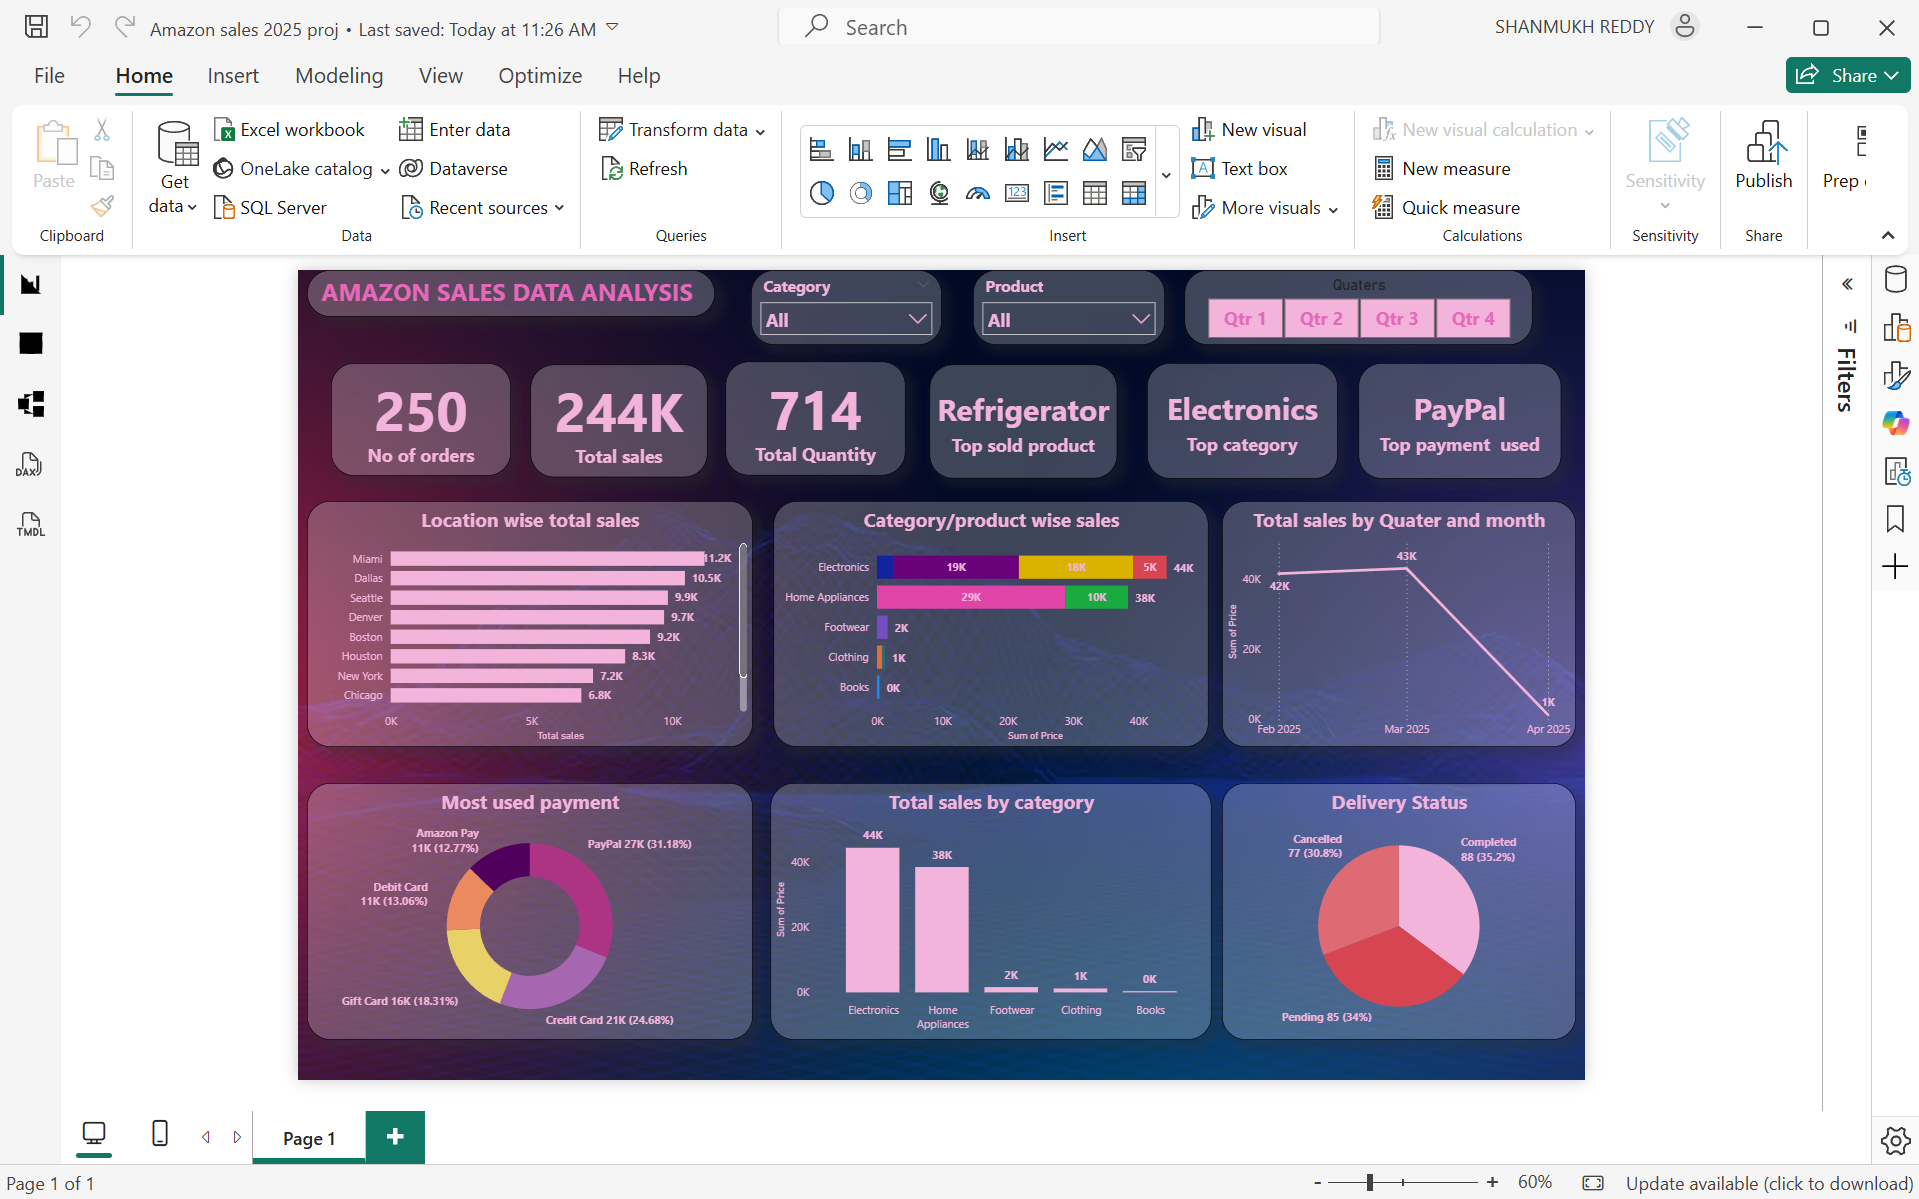

This screenshot's page, from the dashboard's own definition file:
{"tool":"powerbi","page":{"name":"Page 1","canvas":[1430,900],"ordinal":0},"visuals":[{"type":"textbox","box":[10.3,0,453.1,51.7],"z":0},{"type":"card","fields":{"Values":["CountNonNull(amazon_sales_data 2025.Order ID)"]},"box":[36.7,103.3,200,125],"z":1000},{"type":"card","fields":{"Values":["Sum(amazon_sales_data 2025.Total Sales)"]},"box":[258.3,105,196.7,125],"z":2000},{"type":"card","fields":{"Values":["Min(amazon_sales_data 2025.Product)"]},"box":[701.7,105,208.3,126.7],"z":3000},{"type":"card","fields":{"Values":["Sum(amazon_sales_data 2025.Quantity)"]},"box":[475,101.7,200,126.7],"z":4000},{"type":"slicer","title":"Quaters","fields":{"Values":["amazon_sales_data 2025.Date.Variation.Date Hierarchy.Quarter"]},"box":[985,0,386.7,83.3],"z":5000},{"type":"card","fields":{"Values":["Min(amazon_sales_data 2025.Category)"]},"box":[943.3,103.3,211.7,128.3],"z":6000},{"type":"card","fields":{"Values":["Min(amazon_sales_data 2025.Payment Method)"]},"box":[1178.3,103.3,225,128.3],"z":7000},{"type":"barChart","title":"Location wise total sales","fields":{"Category":["amazon_sales_data 2025.Customer Location"],"Y":["Sum(amazon_sales_data 2025.Price)"]},"box":[10,256.7,495,273.3],"z":8000},{"type":"donutChart","title":"Most used payment","fields":{"Category":["amazon_sales_data 2025.Payment Method"],"Y":["Sum(amazon_sales_data 2025.Price)"]},"box":[10,570,495,285],"z":9000},{"type":"barChart","title":" Category/product wise sales","fields":{"Category":["amazon_sales_data 2025.Category"],"Series":["amazon_sales_data 2025.Product"],"Y":["Sum(amazon_sales_data 2025.Price)"]},"box":[528.3,256.7,483.3,273.3],"z":10000},{"type":"clusteredColumnChart","title":"Total sales by category","fields":{"Category":["amazon_sales_data 2025.Category"],"Y":["Sum(amazon_sales_data 2025.Price)"]},"box":[525,570,490,285],"z":11000},{"type":"lineChart","title":"Total sales by Quater and month","fields":{"Category":["amazon_sales_data 2025.Date.Variation.Date Hierarchy.Year","amazon_sales_data 2025.Date.Variation.Date Hierarchy.Quarter","amazon_sales_data 2025.Date.Variation.Date Hierarchy.Month","amazon_sales_data 2025.Date.Variation.Date Hierarchy.Day"],"Y":["Sum(amazon_sales_data 2025.Price)"]},"box":[1026.7,256.7,393.3,273.3],"z":12000},{"type":"slicer","fields":{"Values":["amazon_sales_data 2025.Category"]},"box":[503.3,0,211.7,83.3],"z":13000},{"type":"slicer","fields":{"Values":["amazon_sales_data 2025.Product"]},"box":[750,0,213.3,83.3],"z":14000},{"type":"pieChart","title":"Delivery Status ","fields":{"Category":["amazon_sales_data 2025.Status"],"Y":["CountNonNull(amazon_sales_data 2025.Status)"]},"box":[1027,570,393,285],"z":15000}]}

Visuals, with their boxes on the page's 1430x900 design canvas (x1, y1, x2, y2). These are canvas units, not pixel positions in the 1919x1199 screenshot, which may show the page scaled, cropped or inside an application window:
textbox: x1=10, y1=0, x2=463, y2=52
card - CountNonNull(amazon_sales_data 2025.Order ID): x1=37, y1=103, x2=237, y2=228
card - Sum(amazon_sales_data 2025.Total Sales): x1=258, y1=105, x2=455, y2=230
card - Min(amazon_sales_data 2025.Product): x1=702, y1=105, x2=910, y2=232
card - Sum(amazon_sales_data 2025.Quantity): x1=475, y1=102, x2=675, y2=228
"Quaters" slicer: x1=985, y1=0, x2=1372, y2=83
card - Min(amazon_sales_data 2025.Category): x1=943, y1=103, x2=1155, y2=232
card - Min(amazon_sales_data 2025.Payment Method): x1=1178, y1=103, x2=1403, y2=232
"Location wise total sales" barChart: x1=10, y1=257, x2=505, y2=530
"Most used payment" donutChart: x1=10, y1=570, x2=505, y2=855
" Category/product wise sales" barChart: x1=528, y1=257, x2=1012, y2=530
"Total sales by category" clusteredColumnChart: x1=525, y1=570, x2=1015, y2=855
"Total sales by Quater and month" lineChart: x1=1027, y1=257, x2=1420, y2=530
slicer - amazon_sales_data 2025.Category: x1=503, y1=0, x2=715, y2=83
slicer - amazon_sales_data 2025.Product: x1=750, y1=0, x2=963, y2=83
"Delivery Status " pieChart: x1=1027, y1=570, x2=1420, y2=855
